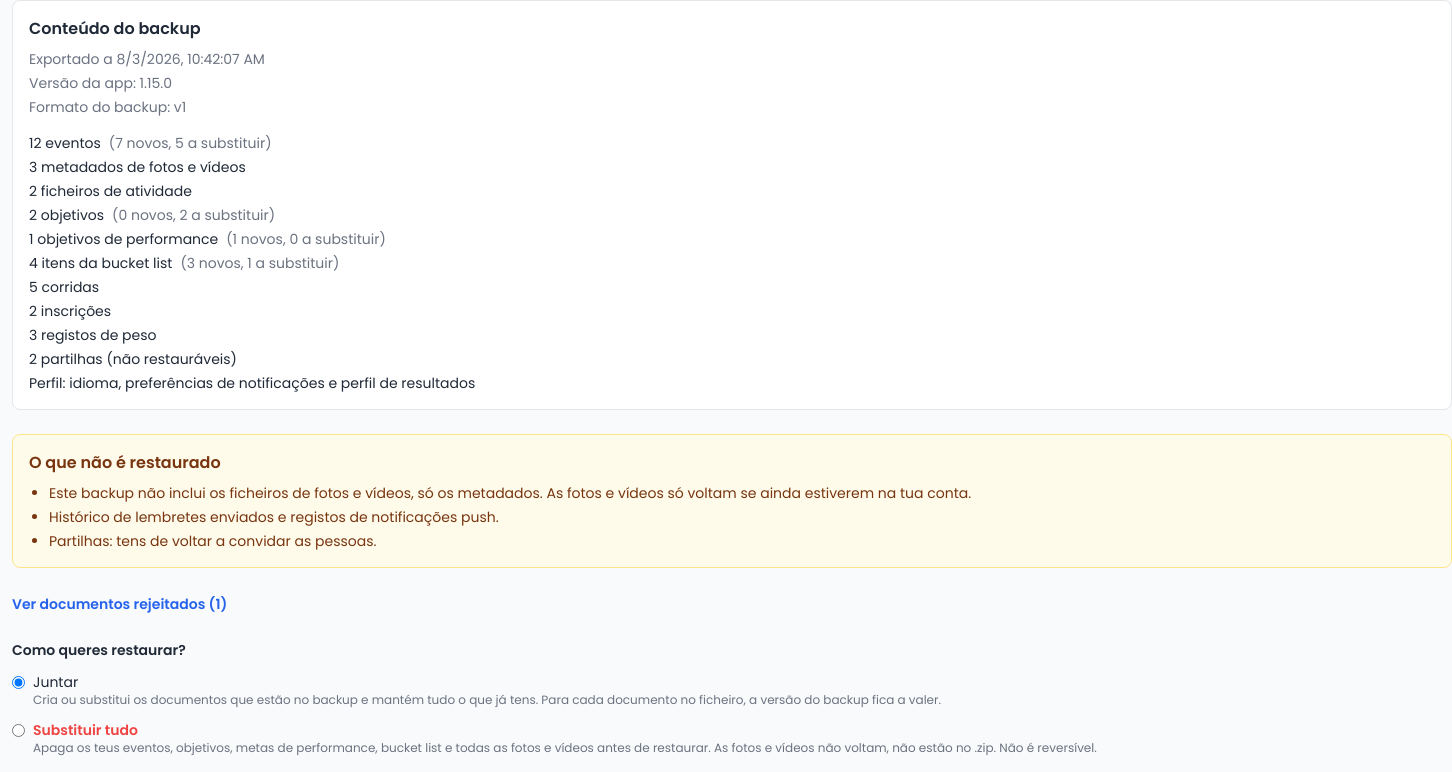
Test: BackupPreview › reveals rejected documents behind a toggle
Expected: the text "event-9" is not shown
Click the button "Ver documentos rejeitados (1)". click: x=120, y=604
box: [12,594,227,614]
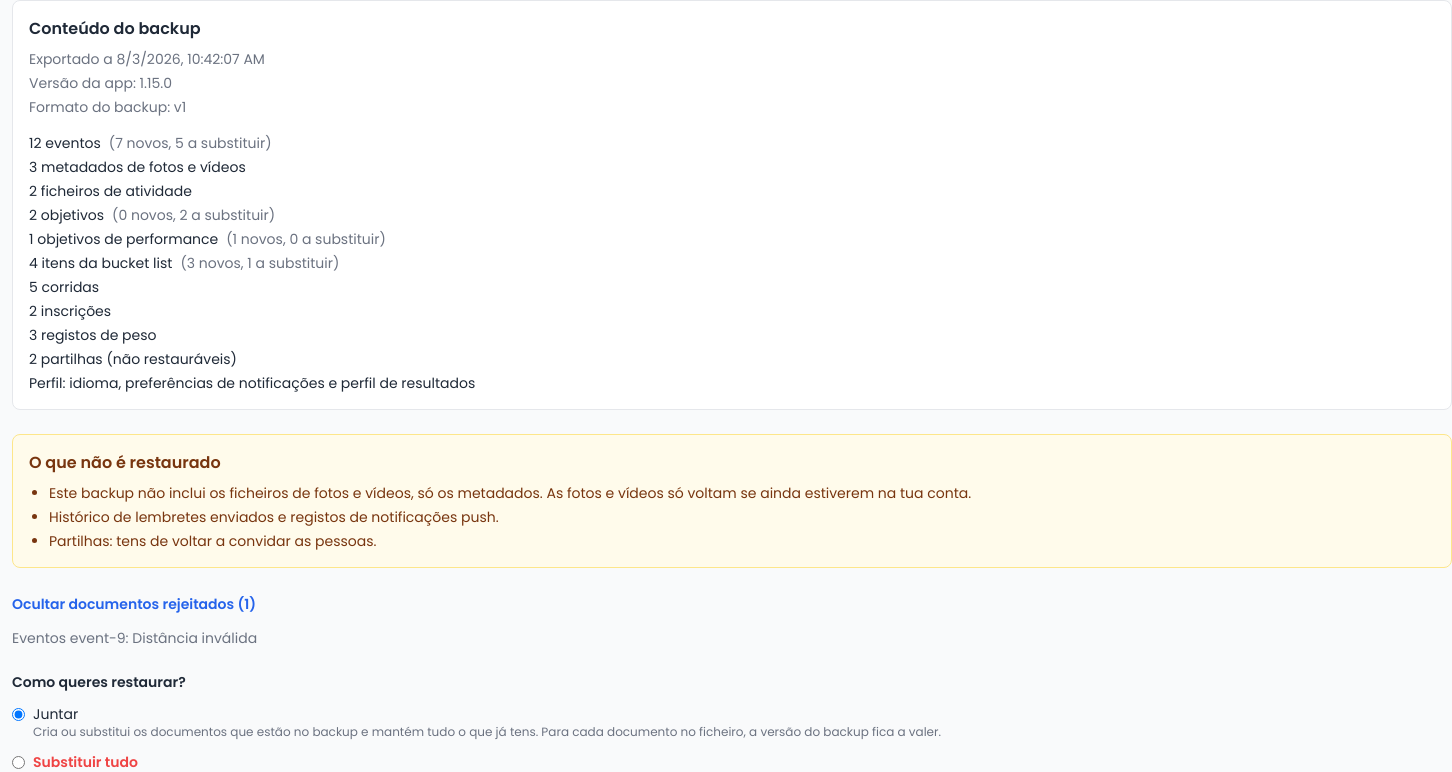
Expected: the list item "Eventos event-9: Distância inválida" is shown, [12,628,257,648]
